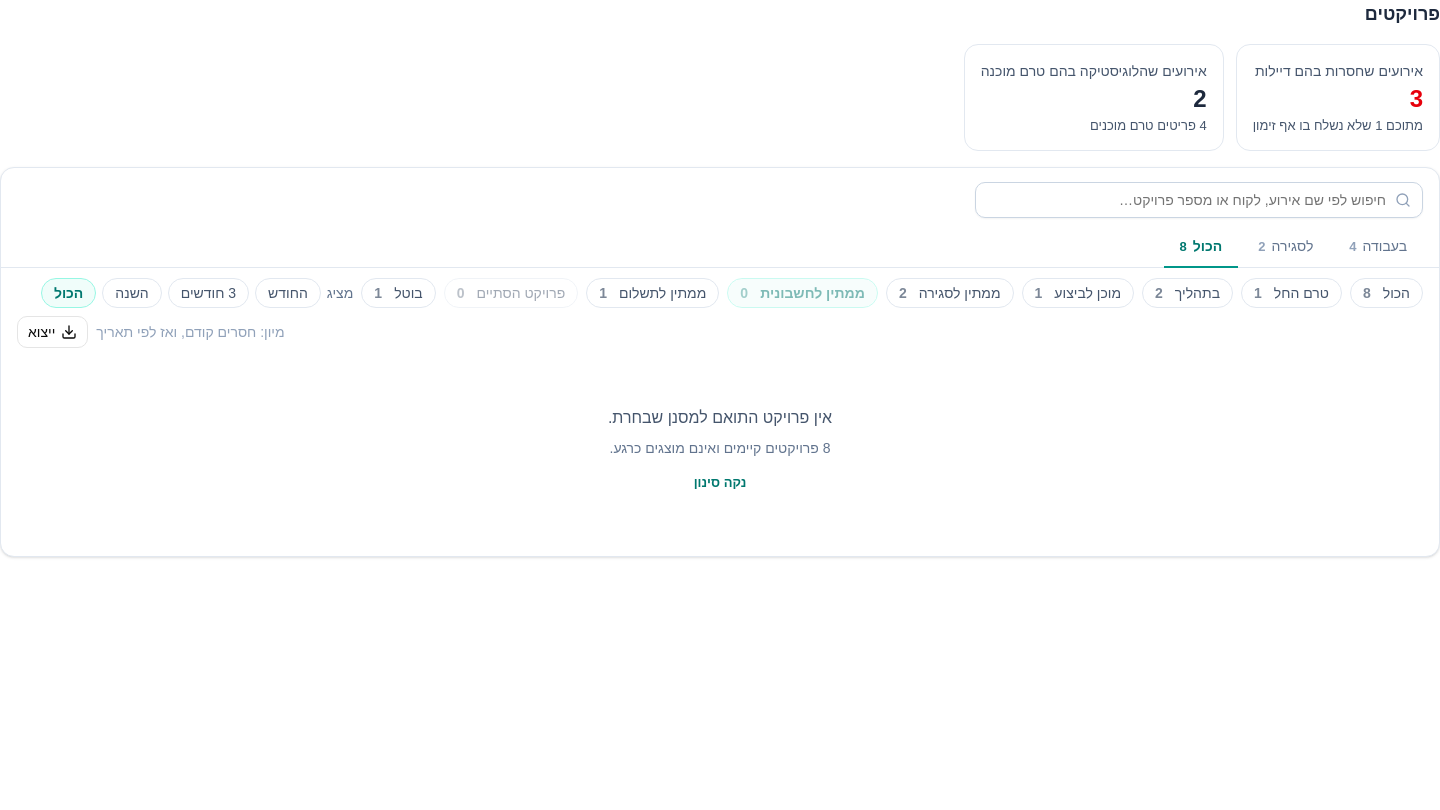
Test: ProjectsPage — לשונית "הכול": גלולות ומסנן › מצב ③ — ריק אחרי סינון: המשפטים הנעולים + "נקי סינון" שבאמת מנקה (ההפך ממצב ②)
Expected: the text "אין פרויקט התואם למסנן שבחרת." is shown, 608,406 -> 832,430
Expected: the text "8 פרויקטים קיימים ואינם מוצגים כרגע." is shown, 610,438 -> 830,458
What coordinates should you click on to do the following:
click the button with test id "projects-clear-filter"
I would click on:
 (720, 483)
Its box is 693,473 -> 747,493.
(page scrolled)
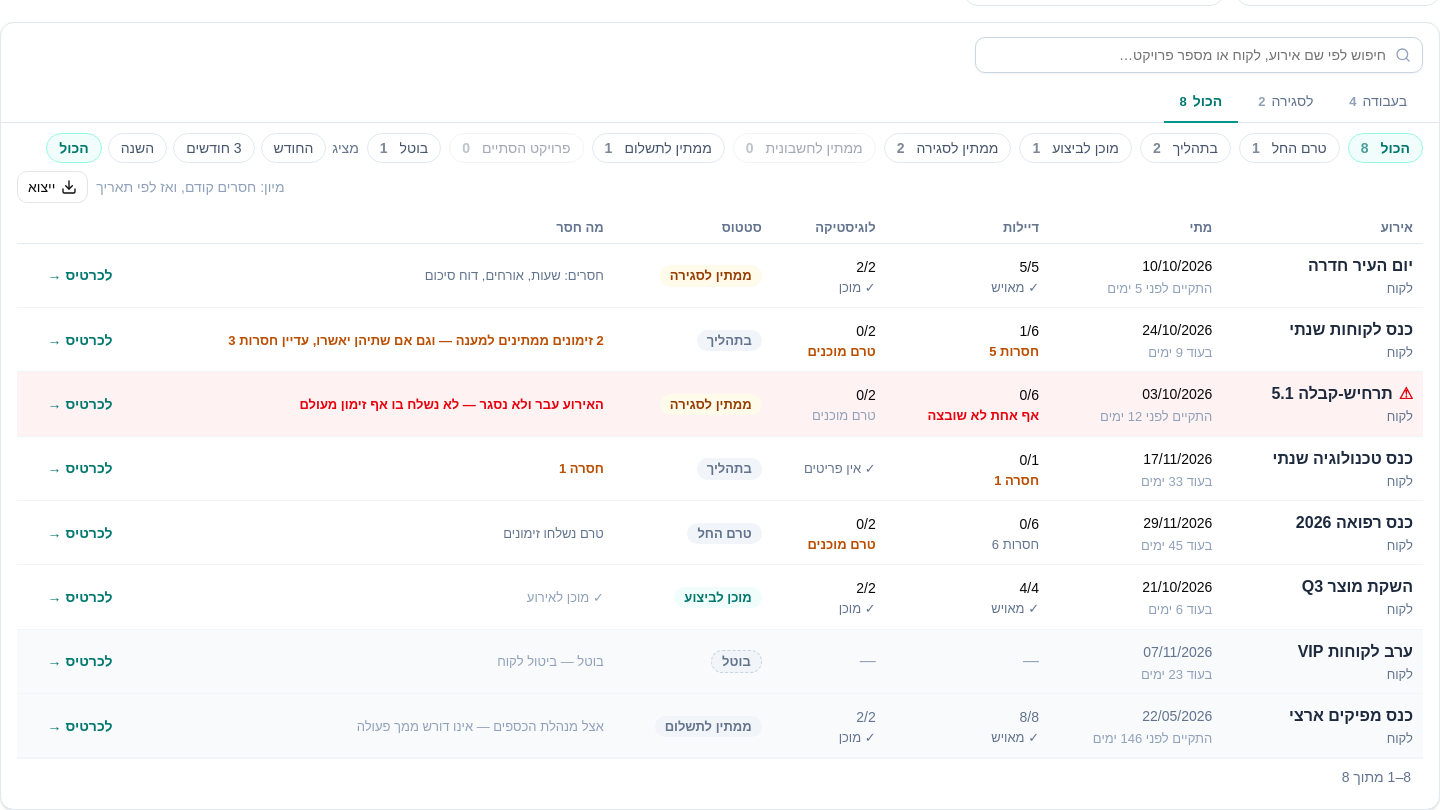
Expected: the table with test id "projects-table" is shown
